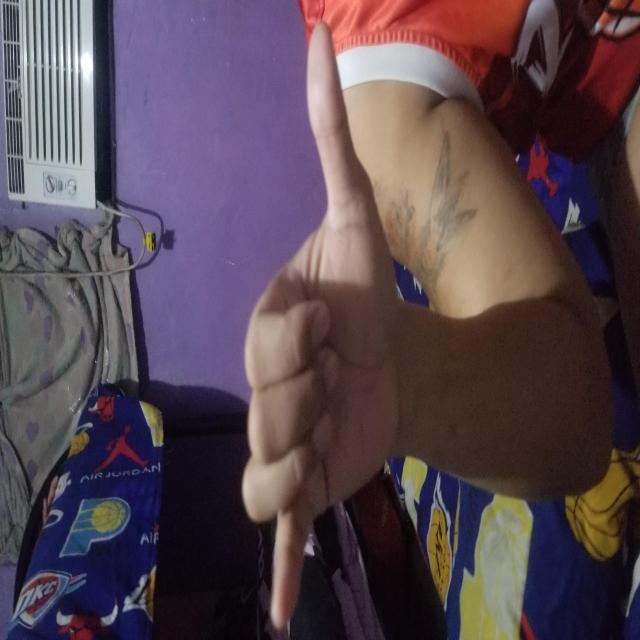Y: (11, 243, 617, 396)
